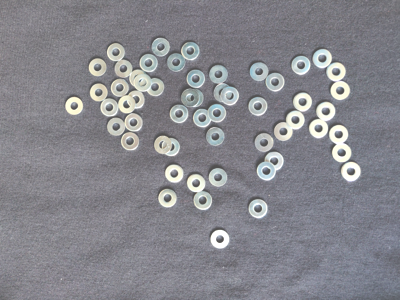circle: (329, 78, 354, 101), (326, 59, 350, 81), (328, 124, 352, 146), (106, 39, 128, 62), (310, 47, 333, 69), (289, 54, 311, 76), (341, 160, 362, 183), (331, 143, 355, 163), (152, 37, 173, 59), (315, 100, 336, 122), (308, 118, 329, 139), (164, 164, 185, 185), (87, 58, 109, 78), (293, 92, 315, 112), (255, 132, 277, 152), (210, 166, 230, 188), (192, 191, 214, 211), (249, 62, 270, 82), (185, 87, 205, 108), (265, 152, 286, 172), (206, 127, 225, 149), (255, 162, 277, 181), (180, 42, 200, 62), (167, 52, 187, 72), (121, 132, 141, 152), (249, 199, 269, 219), (186, 173, 206, 193), (210, 229, 230, 249), (113, 60, 134, 79), (208, 65, 229, 84), (274, 121, 293, 142), (107, 117, 126, 138), (186, 70, 206, 89), (266, 73, 285, 93), (286, 111, 306, 130), (221, 86, 241, 105), (89, 83, 109, 102), (100, 98, 120, 117), (66, 95, 85, 115), (163, 138, 181, 159), (157, 189, 178, 207), (129, 69, 148, 88), (248, 97, 267, 116), (208, 103, 227, 122), (180, 89, 199, 108), (170, 104, 189, 123), (193, 109, 212, 128), (214, 84, 234, 102), (128, 90, 146, 110), (111, 78, 129, 98), (140, 53, 158, 72), (147, 78, 165, 97), (154, 136, 172, 154), (125, 114, 144, 131), (135, 74, 152, 92), (119, 96, 136, 114)
